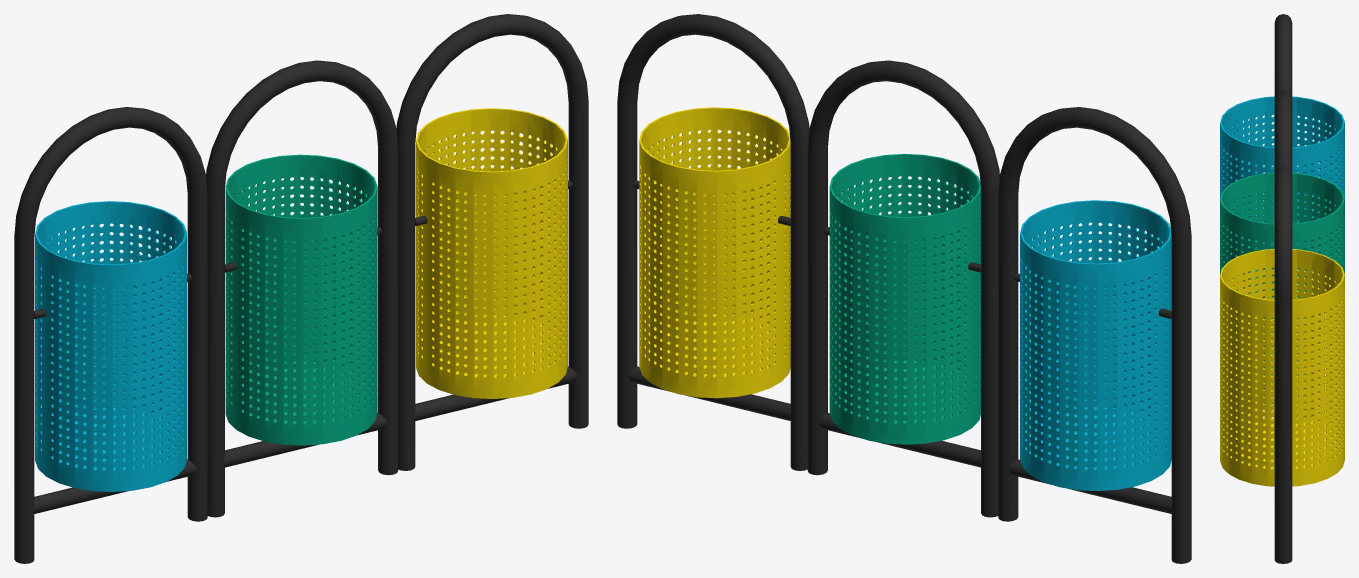
File: park_0935.glb
3 views of the same model, side by side, from view 1: azimuth 30°, elevation 25°; view 2: azimuth 150°, elevation 25°; view 3: azimuth 270°, elevation 25° (orthographic). The views are drawn at different scales.
Parts seen in each view (by area): view 1: Object_10, Object_6, Object_2, Object_4, Object_7, Object_5, Object_3, Object_8, Object_9, Object_11; view 2: Object_10, Object_4, Object_2, Object_6, Object_5, Object_3, Object_7, Object_8, Object_9, Object_11; view 3: Object_4, Object_10, Object_5, Object_6, Object_2, Object_7, Object_3, Object_9.
Part boxes in pixels (box(x1,y1,x2,y2)): Object_10: box(14, 14, 588, 563); Object_6: box(225, 154, 377, 445); Object_2: box(35, 201, 186, 491); Object_4: box(416, 108, 567, 398); Object_7: box(226, 160, 377, 424); Object_5: box(417, 114, 567, 377); Object_3: box(36, 207, 186, 470); Object_8: box(52, 408, 173, 469); Object_9: box(433, 315, 554, 377); Object_11: box(243, 361, 363, 423); Object_10: box(617, 14, 1191, 563); Object_4: box(639, 107, 790, 398); Object_2: box(1020, 200, 1171, 491); Object_6: box(829, 153, 980, 444); Object_5: box(648, 108, 790, 356); Object_3: box(1029, 201, 1171, 449); Object_7: box(839, 154, 980, 403); Object_8: box(1036, 407, 1154, 469); Object_9: box(655, 314, 774, 376); Object_11: box(846, 360, 964, 423); Object_4: box(1220, 249, 1344, 486); Object_10: box(1274, 14, 1292, 563); Object_5: box(1223, 270, 1314, 486); Object_6: box(1220, 172, 1344, 410); Object_2: box(1220, 96, 1344, 253); Object_7: box(1229, 193, 1314, 409); Object_3: box(1229, 117, 1314, 298); Object_9: box(1231, 418, 1335, 468).
Size of the model in its own units: 132 by 94.49 by 30.39.
